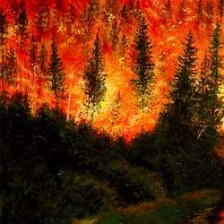fire: (11, 22, 177, 154)
